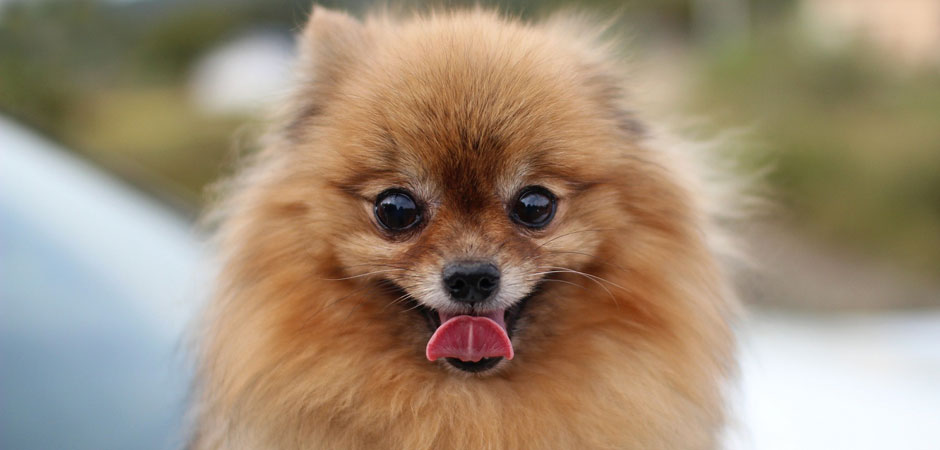pomeranian: (176, 6, 779, 450)
